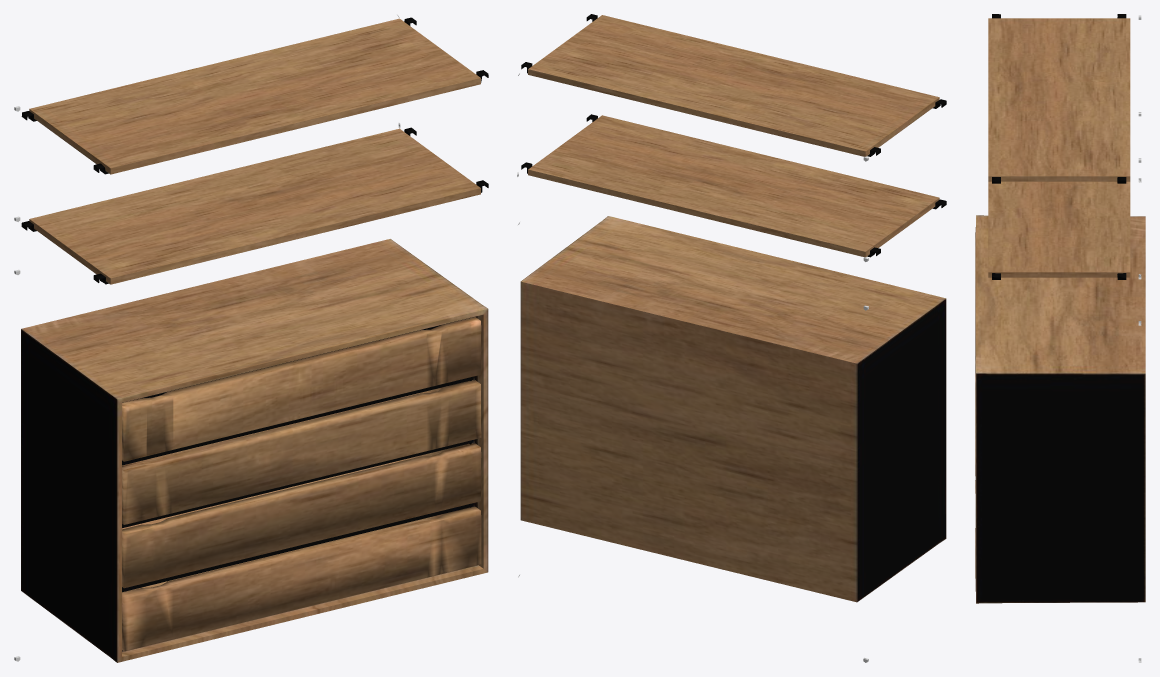
The model's file is drawer_cabinet.gltf.
3 views of the same model, side by side, from view 1: azimuth 30°, elevation 25°; view 2: azimuth 150°, elevation 25°; view 3: azimuth 270°, elevation 25° (orthographic). The views are drawn at different scales.
Parts seen in each view (by area): view 1: drawer_cabinet, drawer_cabinet_drawer_03, drawer_cabinet_drawer_02, drawer_cabinet_drawer_04, drawer_cabinet_drawer_01; view 2: drawer_cabinet; view 3: drawer_cabinet.
Part boxes in pixels (x1=…): drawer_cabinet: x1=14, y1=14, x2=488, y2=662; drawer_cabinet_drawer_03: x1=122, y1=443, x2=481, y2=588; drawer_cabinet_drawer_02: x1=122, y1=380, x2=481, y2=524; drawer_cabinet_drawer_04: x1=122, y1=506, x2=481, y2=651; drawer_cabinet_drawer_01: x1=122, y1=317, x2=481, y2=461; drawer_cabinet: x1=517, y1=14, x2=946, y2=662; drawer_cabinet: x1=976, y1=14, x2=1145, y2=662.
Size of the model in its own units: 1.13 by 1.54 by 0.4881.
Materials: 1 (1 with a texture image).
